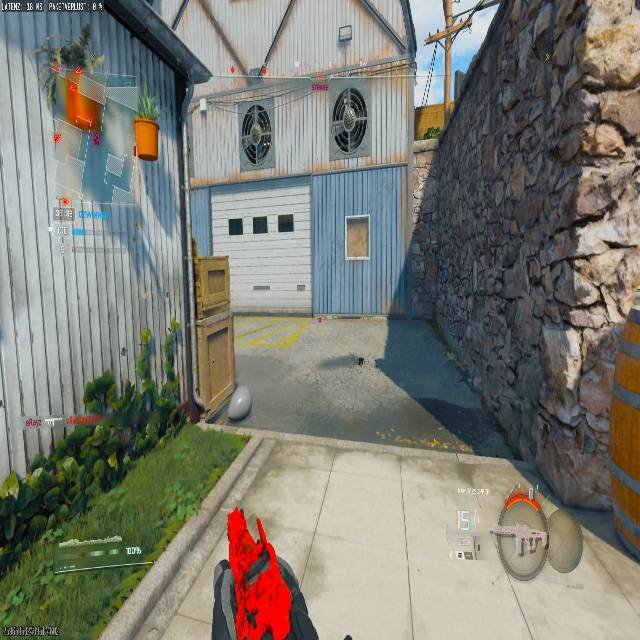player: (331, 87, 368, 152), (240, 103, 272, 167)
